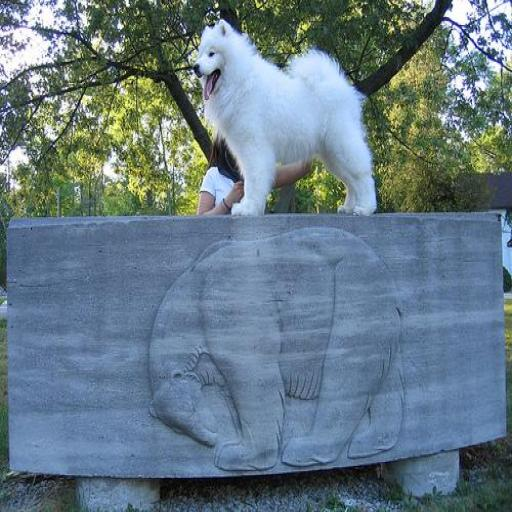dog_face: (194, 27, 232, 94)
